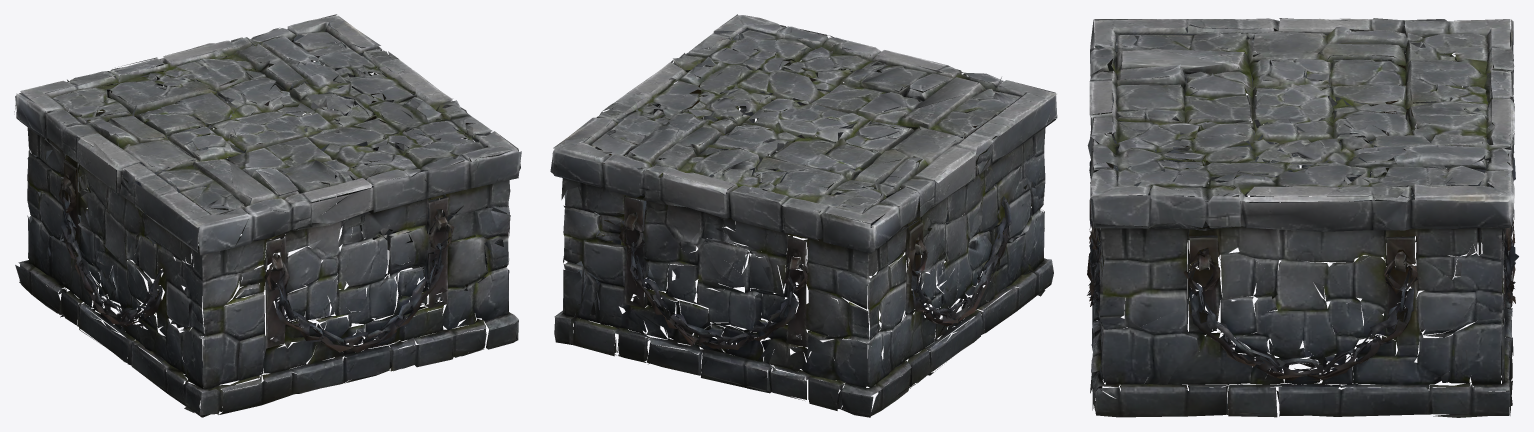
File: DungeonWall_Straight_Chains_S1337_Retopo14000.glb
3 renders of one model, left to right at view 1: azimuth 30°, elevation 25°; view 2: azimuth 150°, elevation 25°; view 3: azimuth 270°, elevation 25°, orthographic. The views are drawn at different scales.
Parts seen in each view (by area): view 1: world; view 2: world; view 3: world.
Boxes of the visible parts, x1,y1,x2,y2 form: world: (14, 14, 521, 417); world: (550, 14, 1057, 417); world: (1087, 18, 1518, 417).
Size of the model in its own units: 1.01 by 0.6026 by 1.01.
1 material, 1 textured.
